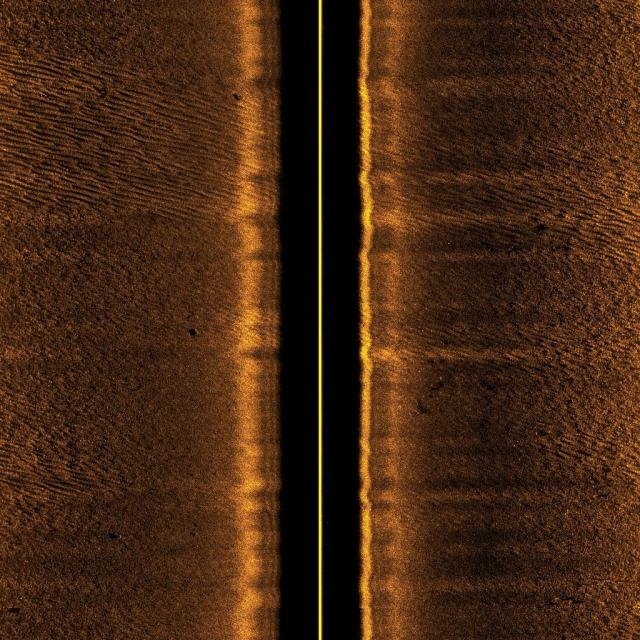mine: (184, 327, 202, 337)
